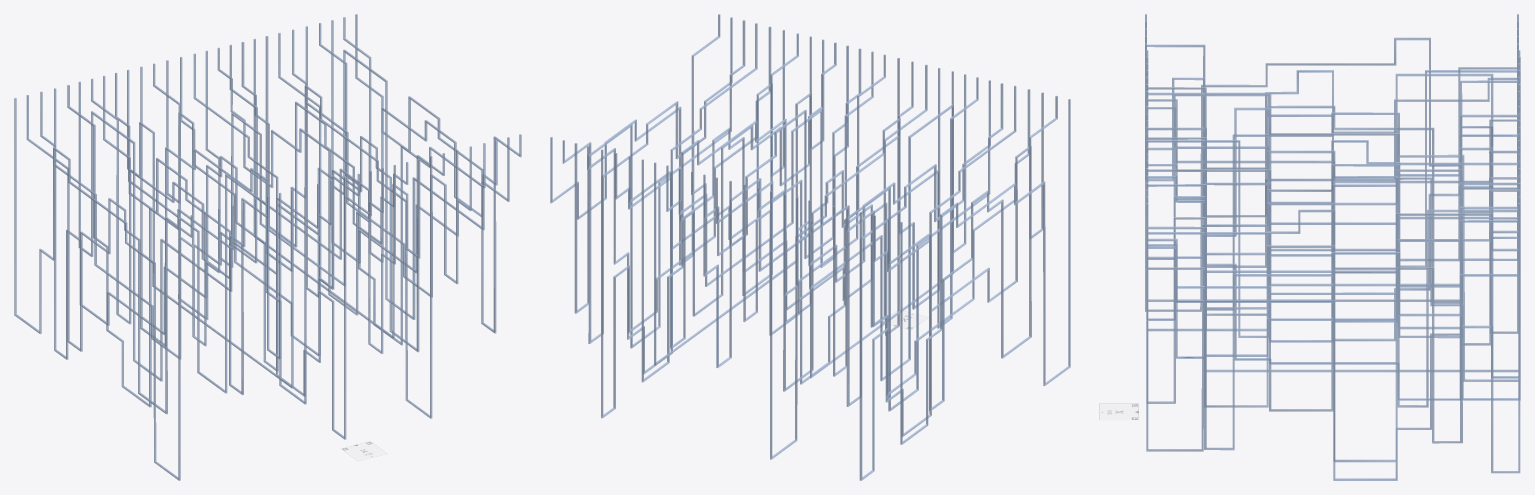
File: project10.glb
3 renders of one model, left to right at view 1: azimuth 30°, elevation 25°; view 2: azimuth 150°, elevation 25°; view 3: azimuth 270°, elevation 25°, orthographic. The views are drawn at different scales.
Visible parts, largest first — view 1: 10Papp violetta tóth zsófia; view 2: 10Papp violetta tóth zsófia; view 3: 10Papp violetta tóth zsófia, TRACK.
Part boxes in pixels (box(x1,y1,x2,y2)): 10Papp violetta tóth zsófia: box(14, 14, 521, 480); 10Papp violetta tóth zsófia: box(550, 14, 1070, 480); 10Papp violetta tóth zsófia: box(1145, 14, 1520, 480); TRACK: box(1099, 404, 1138, 419).
Bounding box in the file's own units: 5.7 × 4.22 × 5.34.
Materials: 2 (1 with a texture image).
